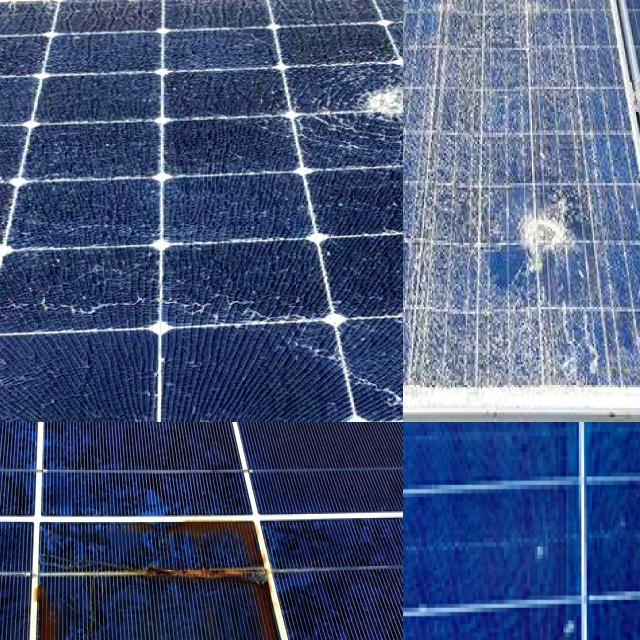hotspot: (500, 186, 593, 282), (343, 60, 403, 133)
shadow: (32, 511, 294, 640)
